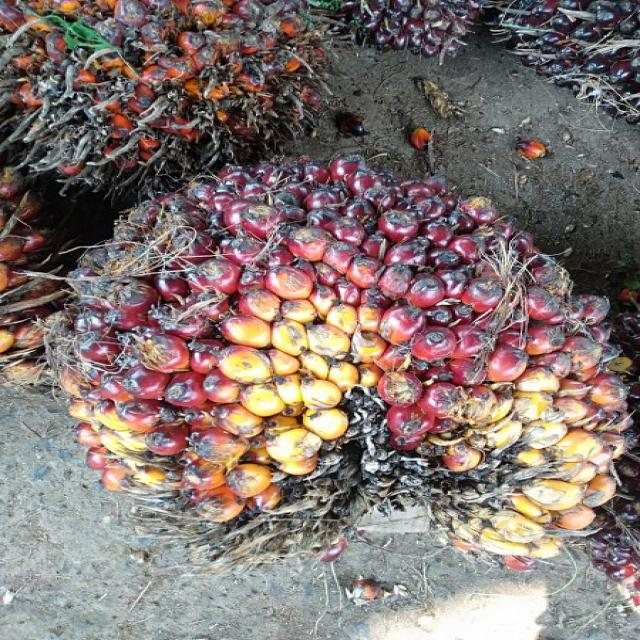fraksi 1: (53, 146, 640, 614)
